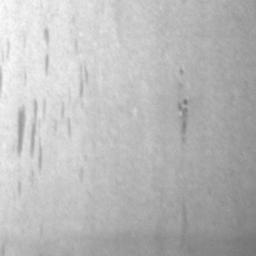Inclusion: (177, 99, 191, 136), (31, 100, 40, 154), (18, 106, 27, 154)
